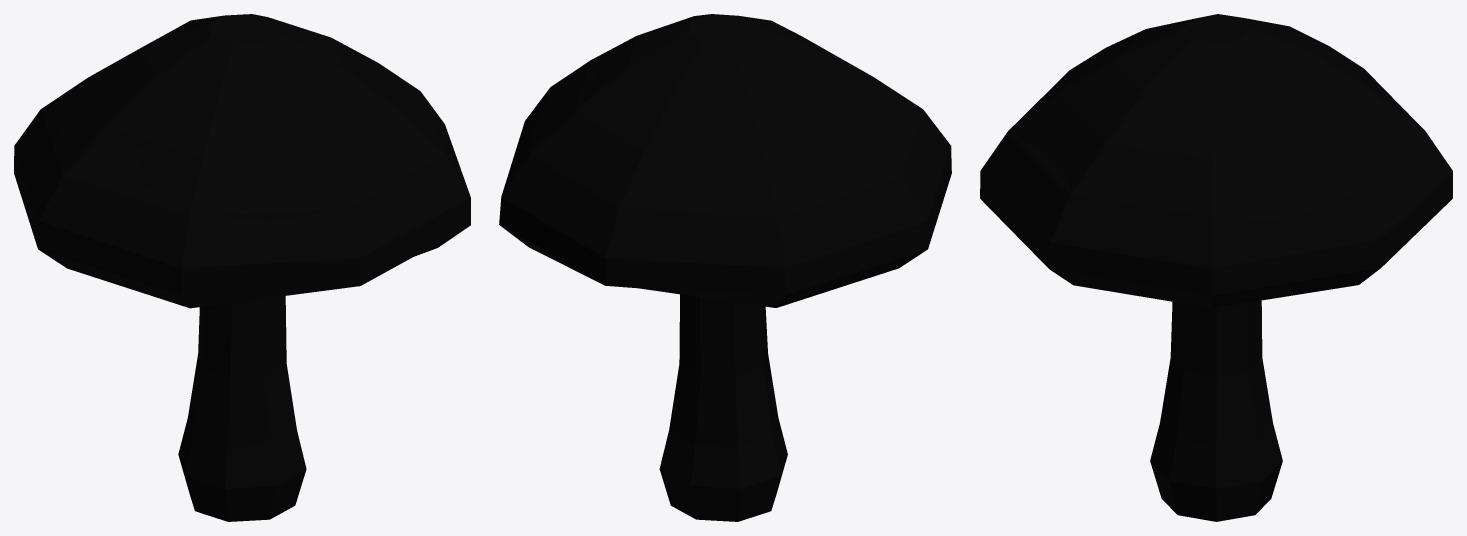
Rendered from Mushroom_2_Smaller.fbx.
3 renders of one model, left to right at view 1: azimuth 30°, elevation 25°; view 2: azimuth 150°, elevation 25°; view 3: azimuth 270°, elevation 25°, orthographic.
Parts seen in each view (by area): view 1: Mushroom_2_Smaller; view 2: Mushroom_2_Smaller; view 3: Mushroom_2_Smaller.
Boxes of the visible parts, x1,y1,x2,y2 form: Mushroom_2_Smaller: (14,14,470,521); Mushroom_2_Smaller: (499,14,951,521); Mushroom_2_Smaller: (980,14,1452,521).
Size of the model in its own units: 0.085 by 0.0944 by 0.086.
